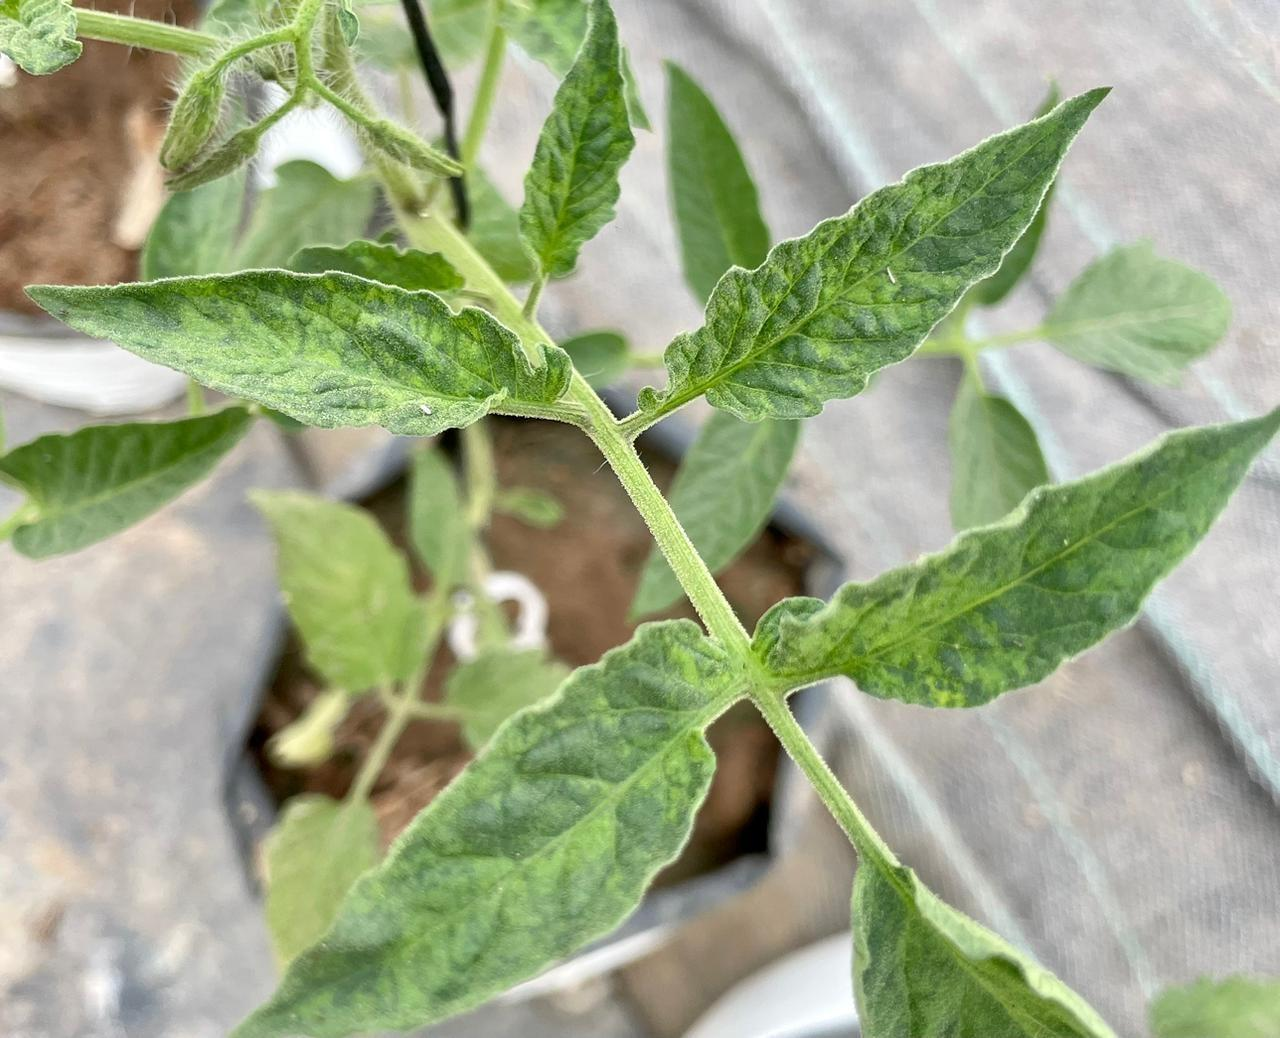Flor rugoso: (160, 65, 226, 172), (365, 118, 463, 178)
Hoja rugoso: (240, 620, 742, 1035), (632, 90, 1107, 428), (755, 409, 1280, 708), (33, 270, 570, 435), (852, 847, 1113, 1035), (520, 0, 635, 282)
Pedunculo rugoso: (573, 377, 900, 867)
